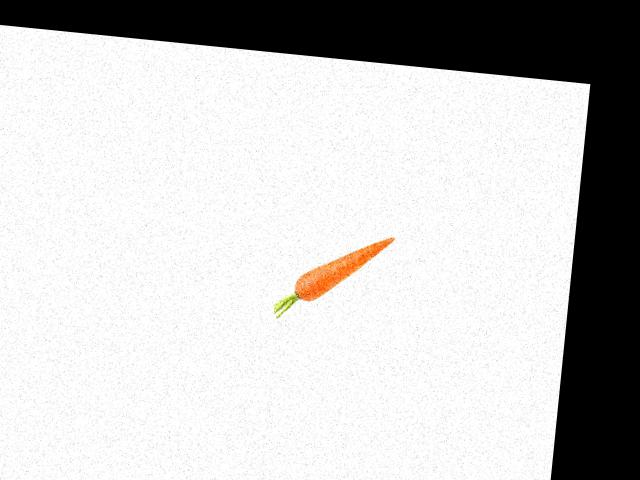carrot: (287, 224, 396, 311)
